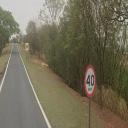Rotatoria: (26, 44, 28, 50)
speed_limit_40: (84, 64, 96, 98)
